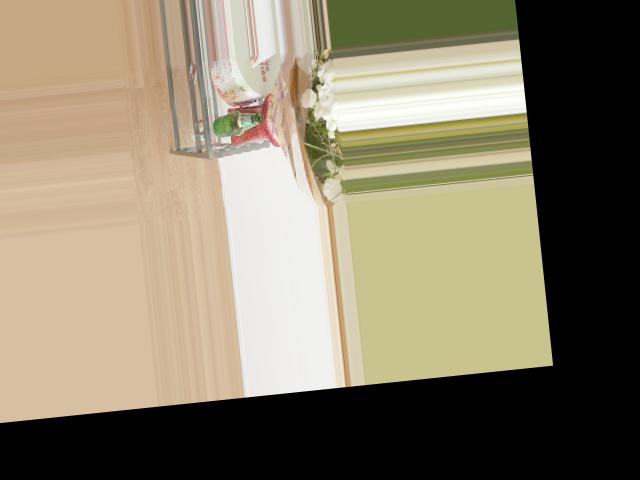beer: (210, 108, 262, 138)
